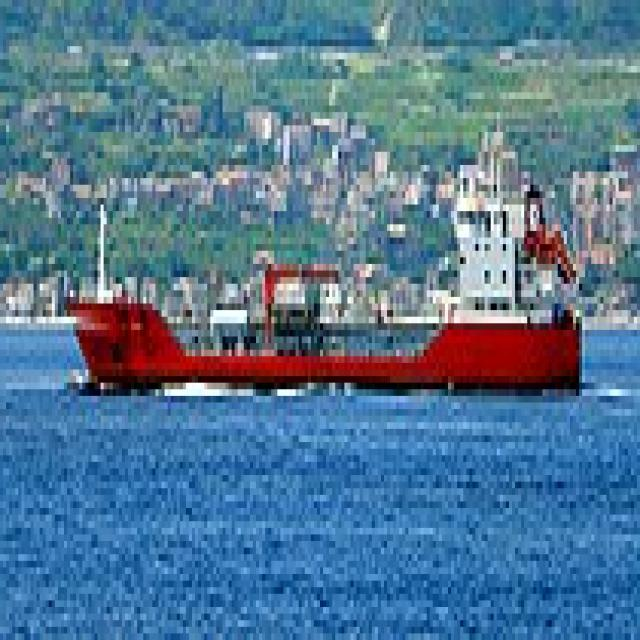Tanker: (67, 152, 591, 396)
